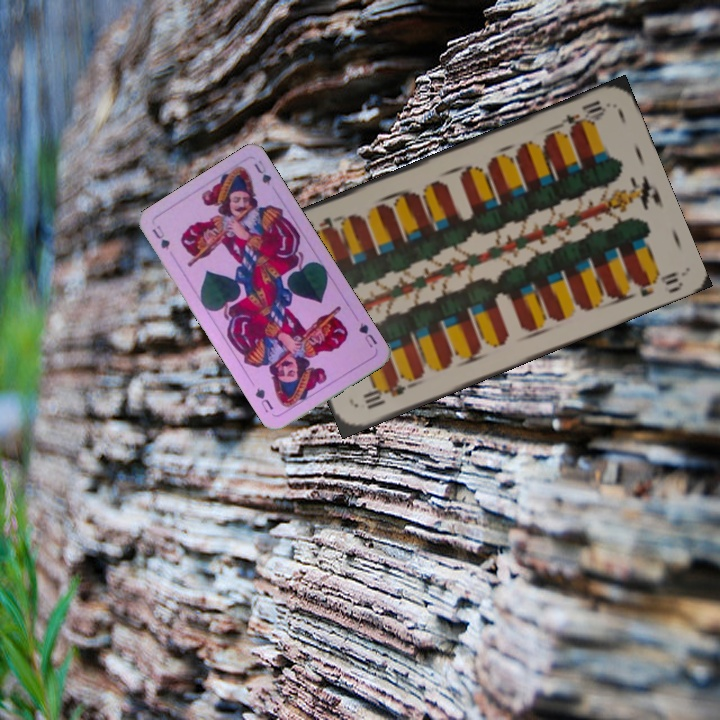E10: (553, 96, 609, 134), (359, 377, 408, 412)
GU: (354, 319, 380, 350), (148, 221, 173, 252)
